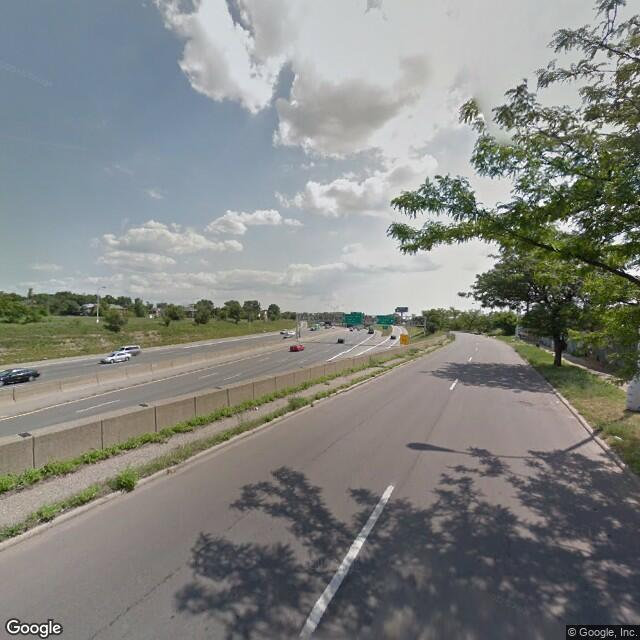litter: (613, 431, 624, 446), (255, 404, 261, 412)
